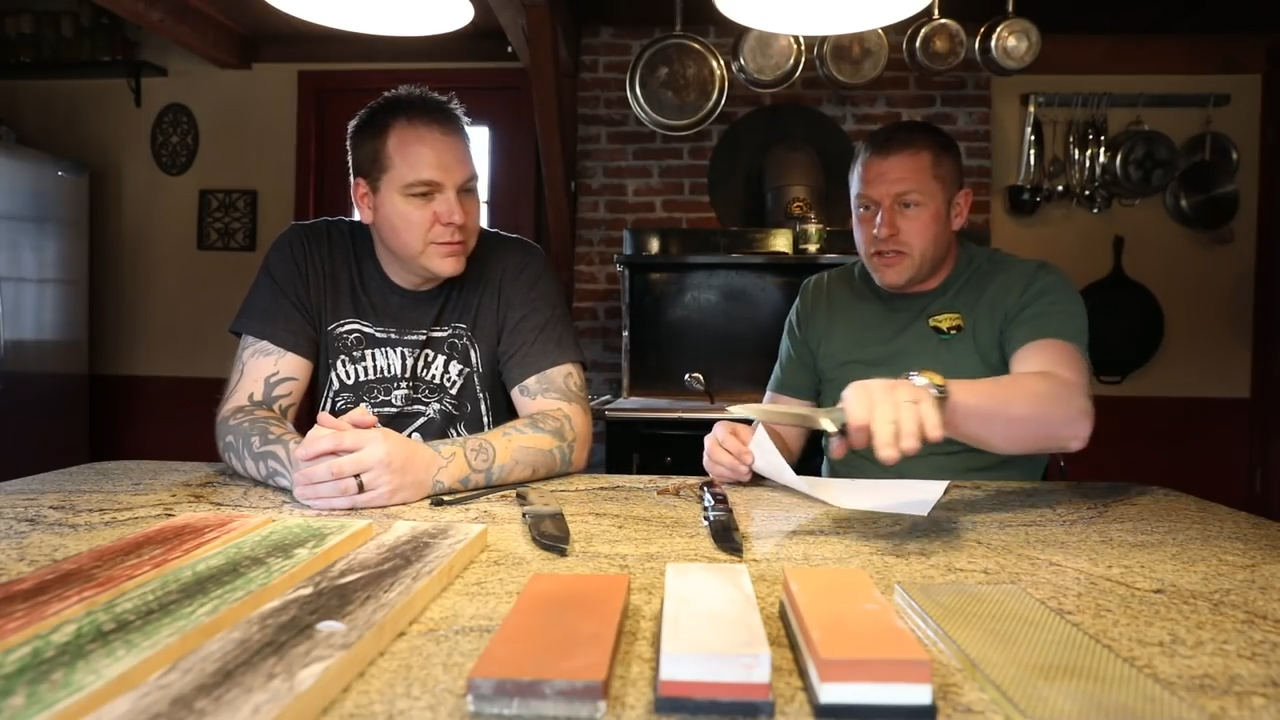knife: (708, 364, 914, 464)
